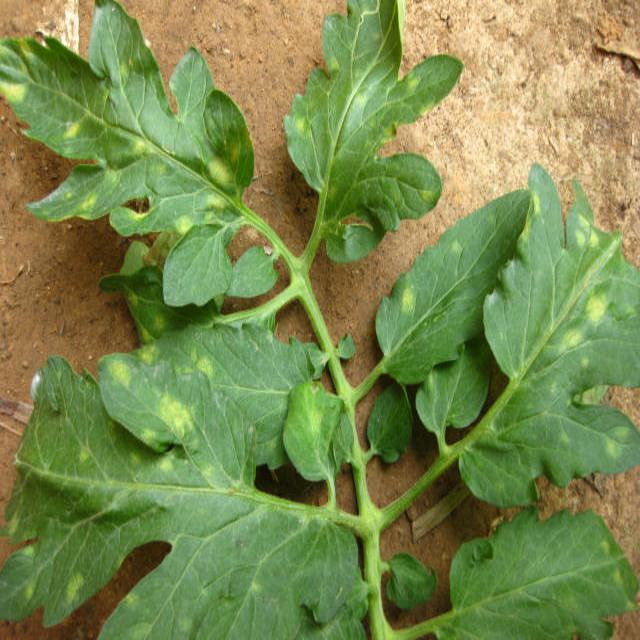Leaf_Mold: (198, 136, 243, 224), (558, 284, 609, 359), (151, 389, 198, 442), (47, 187, 100, 221), (131, 136, 174, 175), (104, 355, 134, 391), (1, 73, 28, 106), (138, 309, 165, 342), (62, 568, 84, 607), (187, 348, 213, 376), (398, 283, 418, 316), (291, 112, 316, 138), (172, 211, 195, 238), (56, 114, 80, 139), (414, 183, 437, 204), (136, 344, 158, 364), (419, 97, 437, 121), (156, 455, 177, 474)
